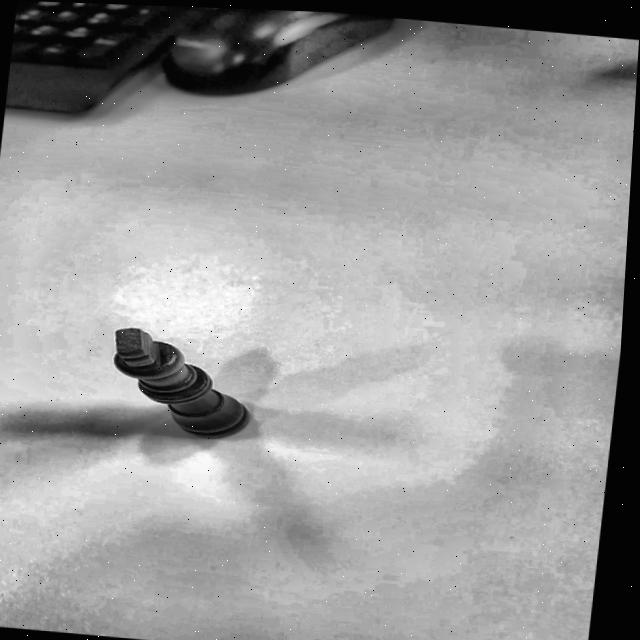black-king: (81, 315, 281, 462)
